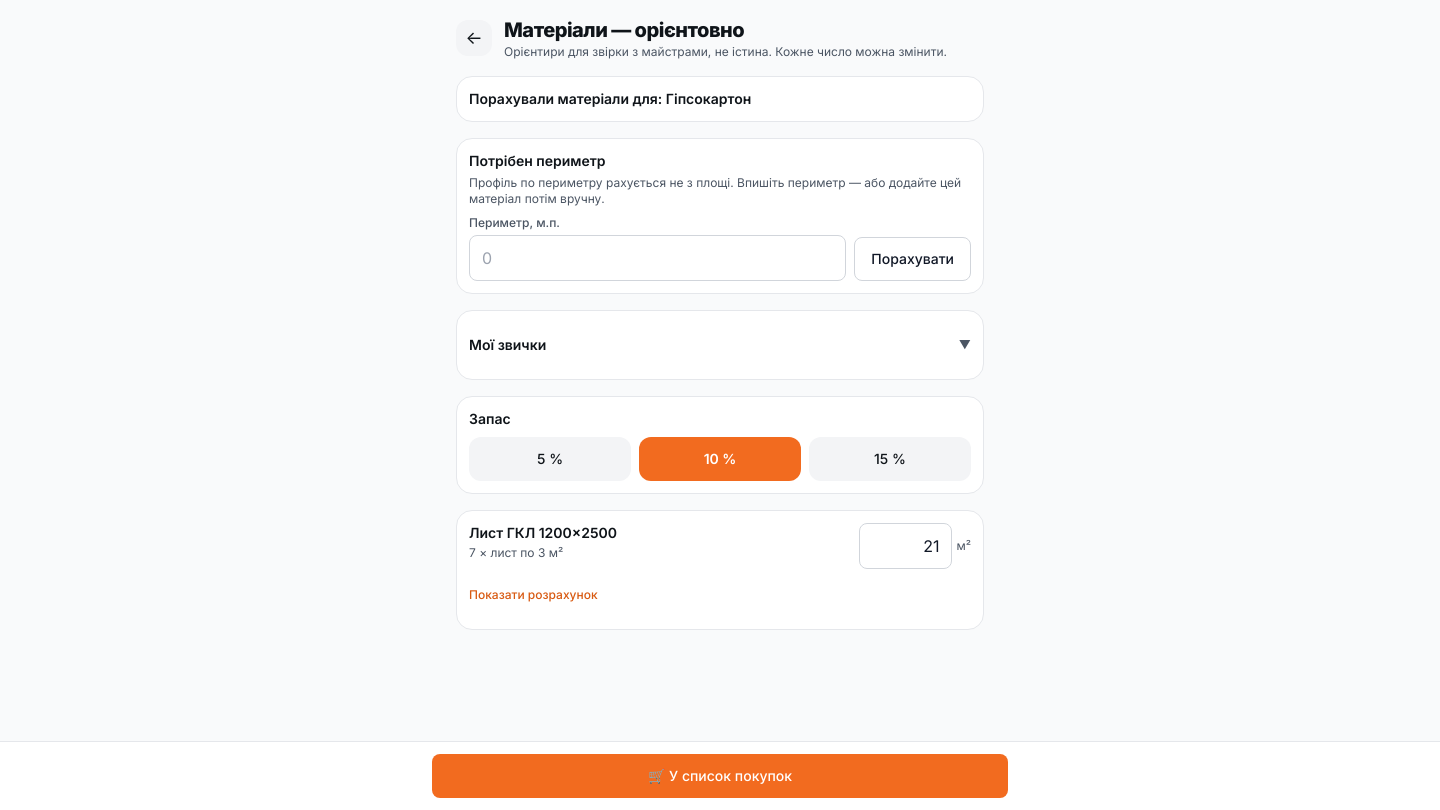
MaterialCalculatorPage › refuses a perimeter that is not a number instead of sending it
Check: the text "Потрібен периметр" is shown, box x1=469 y1=152 x2=606 y2=169
Type "abc" into the field labelled "Периметр, м.п.".
click(658, 258); type("abc")  # box x1=469 y1=235 x2=846 y2=281
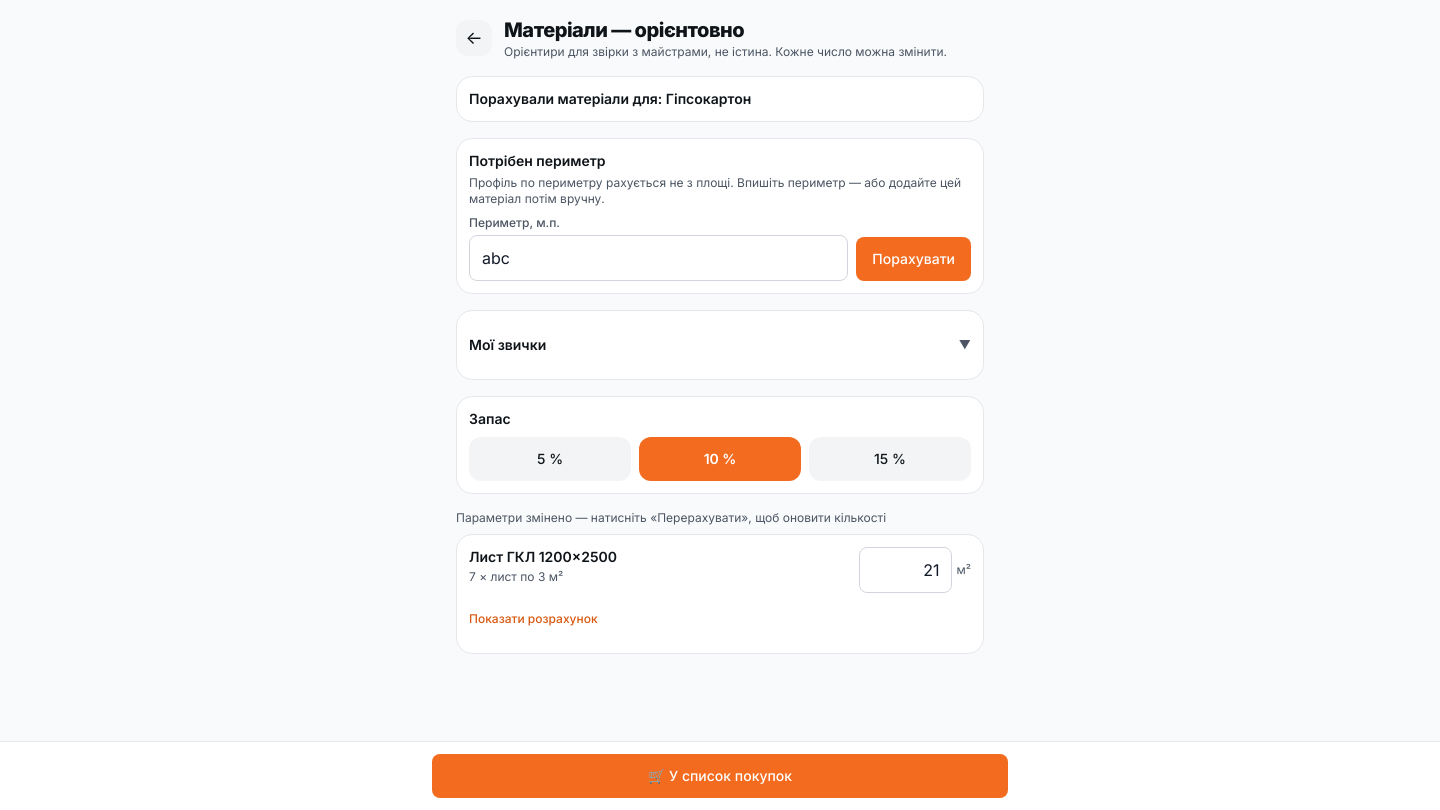
Click the button "Порахувати".
click(914, 259)  # box x1=856 y1=237 x2=971 y2=281
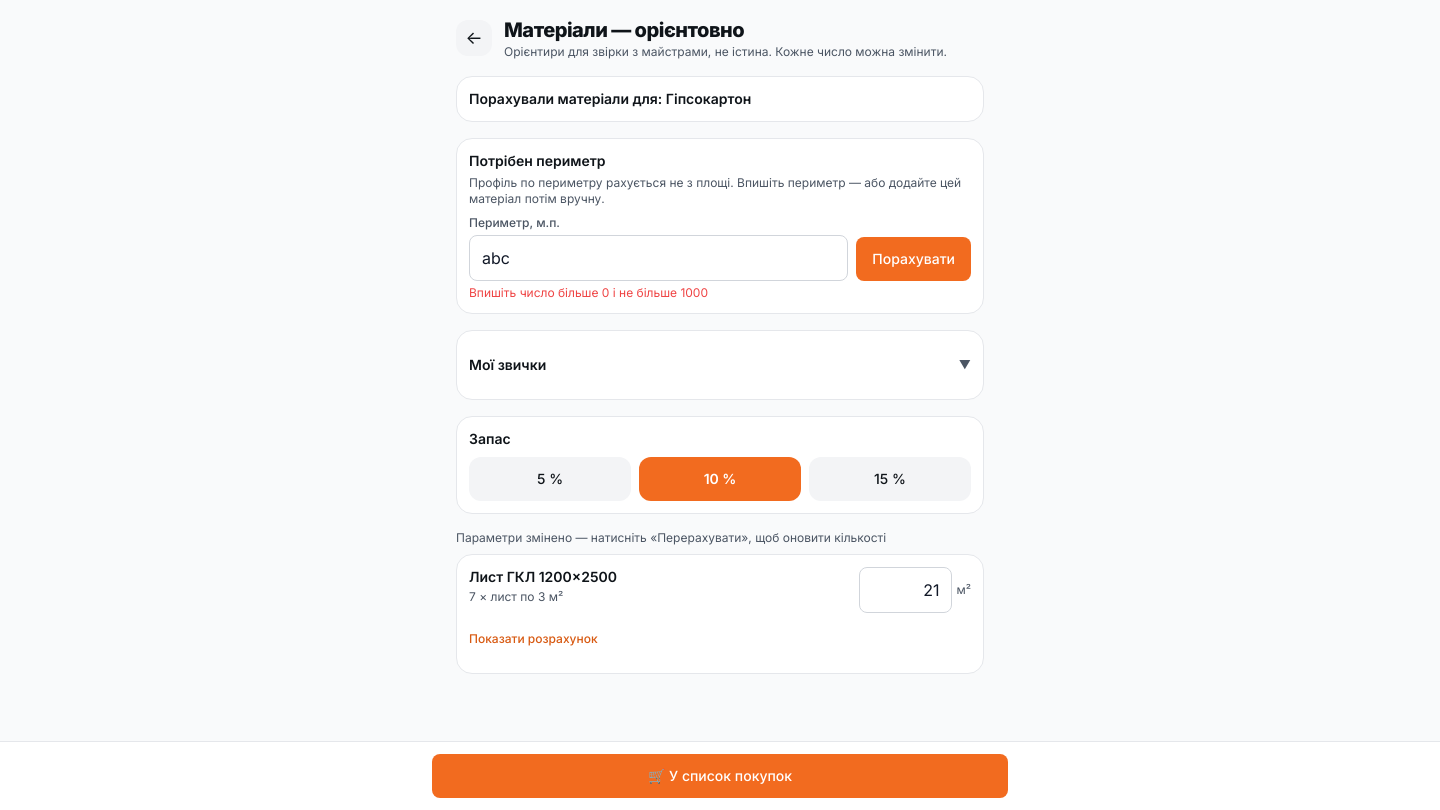
Check: the text "Впишіть число більше 0 і не більше 1000" is shown, box x1=469 y1=285 x2=708 y2=300
